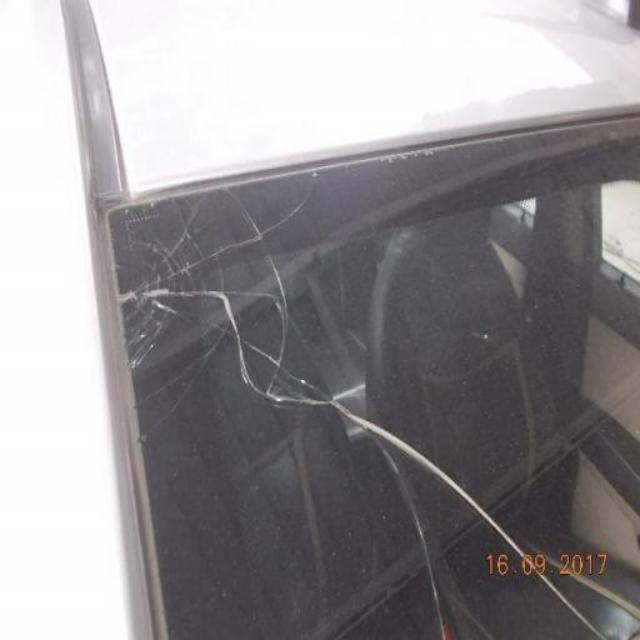glass shatter: (279, 392, 615, 640), (116, 215, 301, 391)
